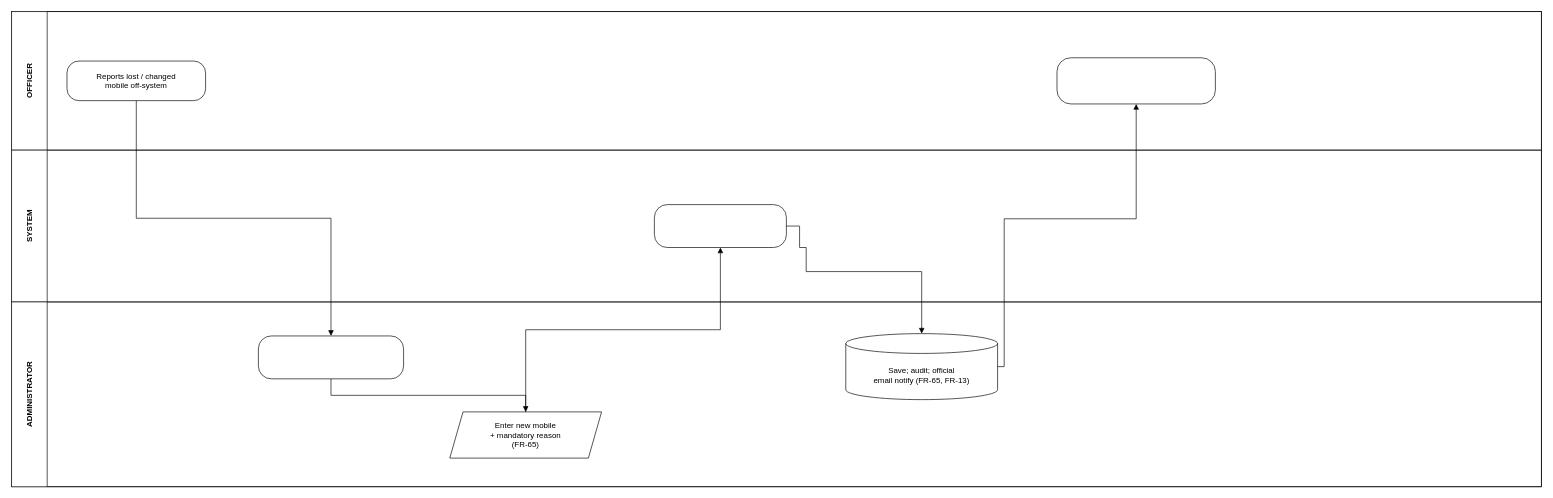
This 1553x498 diagram has some shape labels left out. The shapes that lost their labels are listed below. From the top down, each one's centre as x and y in pixels, then its label:
At (x=1135, y=80): "Login: KGID + Captcha + OTP + Biometrics (FR-06/07)".
At (x=720, y=226): "OTP to new number".
At (x=331, y=357): "Locate user by KGID (authorised admin only)".
